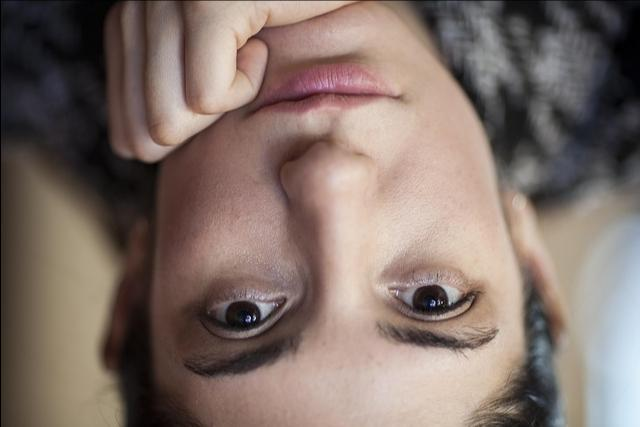Non_Gorille: (53, 0, 592, 427)
